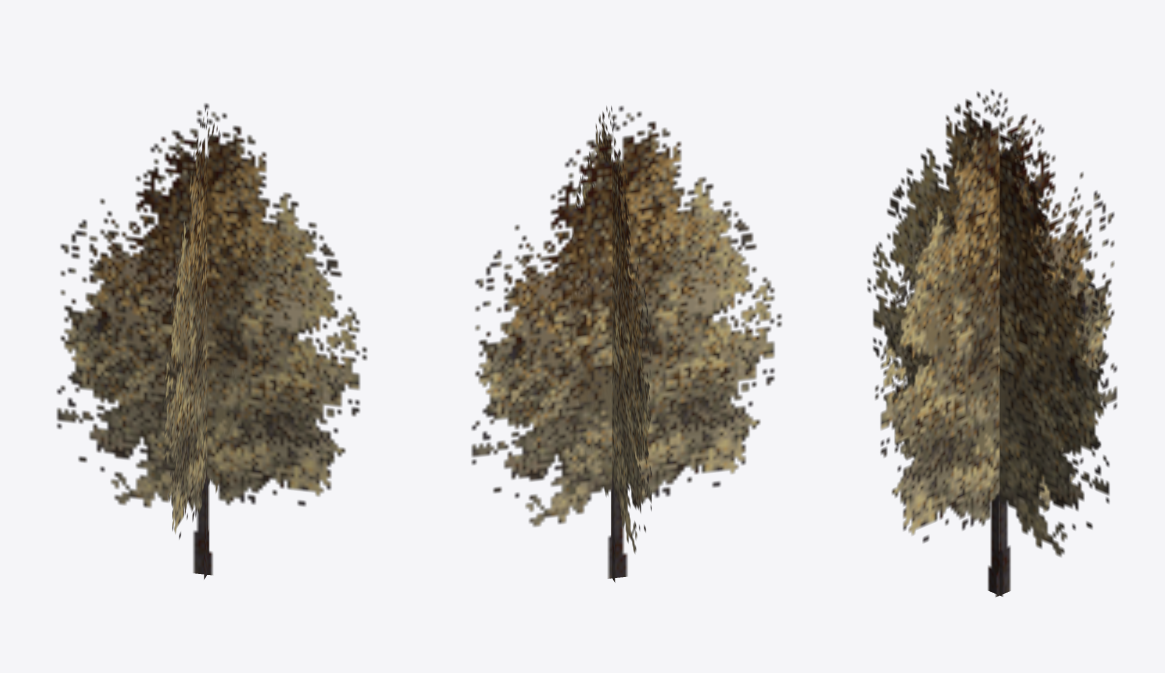
The model's file is tree011.glb.
3 renders of one model, left to right at view 1: azimuth 30°, elevation 25°; view 2: azimuth 150°, elevation 25°; view 3: azimuth 270°, elevation 25°, orthographic. The views are drawn at different scales.
Visible parts, largest first — view 1: tree011; view 2: tree011; view 3: tree011.
Part boxes in pixels (x1,y1,x2,y2): tree011: (56, 103, 367, 579); tree011: (471, 106, 781, 582); tree011: (867, 89, 1117, 596).
Size of the model in its own units: 2.18 by 4.11 by 2.18.
1 material, 1 textured.
